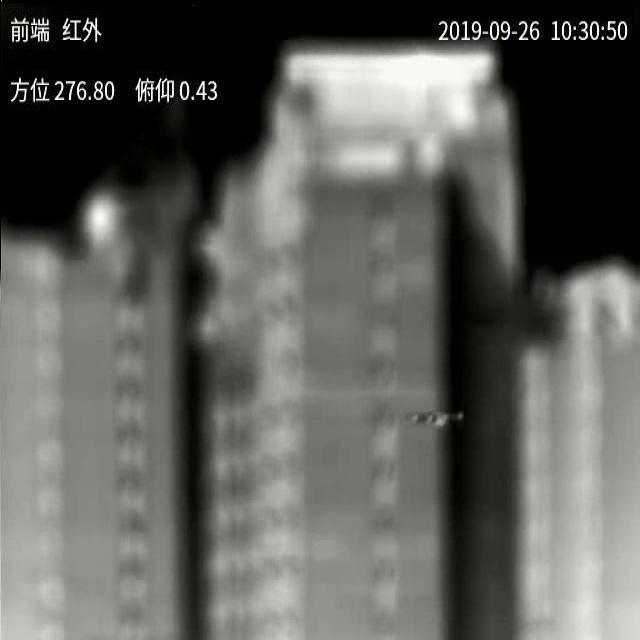drone: (407, 410, 464, 426)
